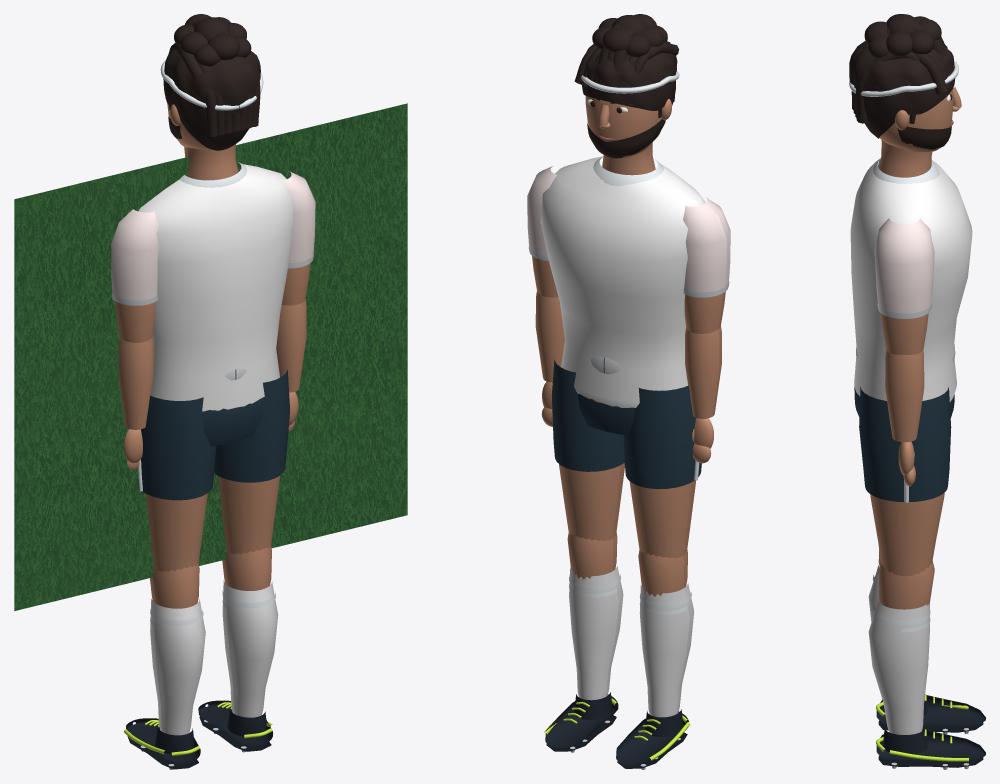
The model's file is matchday.glb.
3 renders of one model, left to right at view 1: azimuth 30°, elevation 25°; view 2: azimuth 150°, elevation 25°; view 3: azimuth 270°, elevation 25°, orthographic. The views are drawn at different scales.
Visible parts, largest first — view 1: TurfSwatch, Athlete, HipL, HipR, KneeR, KneeL, Hair2, ShoulderL, Hair4, ShoulderR, ElbowL, AnkleR (+2 smaller); view 2: Athlete, HipL, HipR, KneeL, KneeR, ShoulderL, Hair2, ElbowL, AnkleR, AnkleL, Head, ShoulderR (+6 smaller); view 3: Athlete, HipR, KneeR, ShoulderR, Hair2, Hair4, AnkleR, ElbowR, AnkleL, Head, Beard, Hair3 (+3 smaller).
Boxes of the visible parts, bbox=[...] form: TurfSwatch: bbox=[14, 103, 407, 610]; Athlete: bbox=[138, 144, 293, 446]; HipL: bbox=[138, 395, 216, 571]; HipR: bbox=[214, 369, 289, 554]; KneeR: bbox=[222, 546, 278, 717]; KneeL: bbox=[150, 563, 205, 735]; Hair2: bbox=[164, 14, 260, 103]; ShoulderL: bbox=[111, 209, 158, 342]; Hair4: bbox=[160, 52, 263, 150]; ShoulderR: bbox=[281, 171, 315, 305]; ElbowL: bbox=[118, 336, 153, 429]; AnkleR: bbox=[198, 700, 273, 752]; Athlete: bbox=[540, 143, 705, 435]; HipL: bbox=[623, 385, 701, 558]; HipR: bbox=[551, 360, 624, 541]; KneeL: bbox=[638, 550, 693, 717]; KneeR: bbox=[567, 532, 623, 700]; ShoulderL: bbox=[683, 197, 730, 333]; Hair2: bbox=[585, 14, 677, 87]; ElbowL: bbox=[685, 326, 721, 418]; AnkleR: bbox=[544, 692, 618, 752]; AnkleL: bbox=[616, 709, 690, 769]; Head: bbox=[585, 93, 671, 159]; ShoulderR: bbox=[527, 166, 558, 297]; Athlete: bbox=[850, 140, 972, 417]; HipR: bbox=[859, 386, 951, 576]; KneeR: bbox=[868, 561, 934, 734]; ShoulderR: bbox=[874, 218, 934, 354]; Hair2: bbox=[849, 14, 953, 99]; Hair4: bbox=[849, 51, 958, 138]; AnkleR: bbox=[876, 728, 985, 769]; ElbowR: bbox=[885, 350, 924, 442]; AnkleL: bbox=[876, 694, 985, 734]; Head: bbox=[879, 87, 961, 152]; Beard: bbox=[897, 126, 951, 149]; Hair3: bbox=[908, 49, 955, 123].
Bounding box in the file's own units: 1 × 1.79 × 0.3033.
19 materials, 3 textured.
